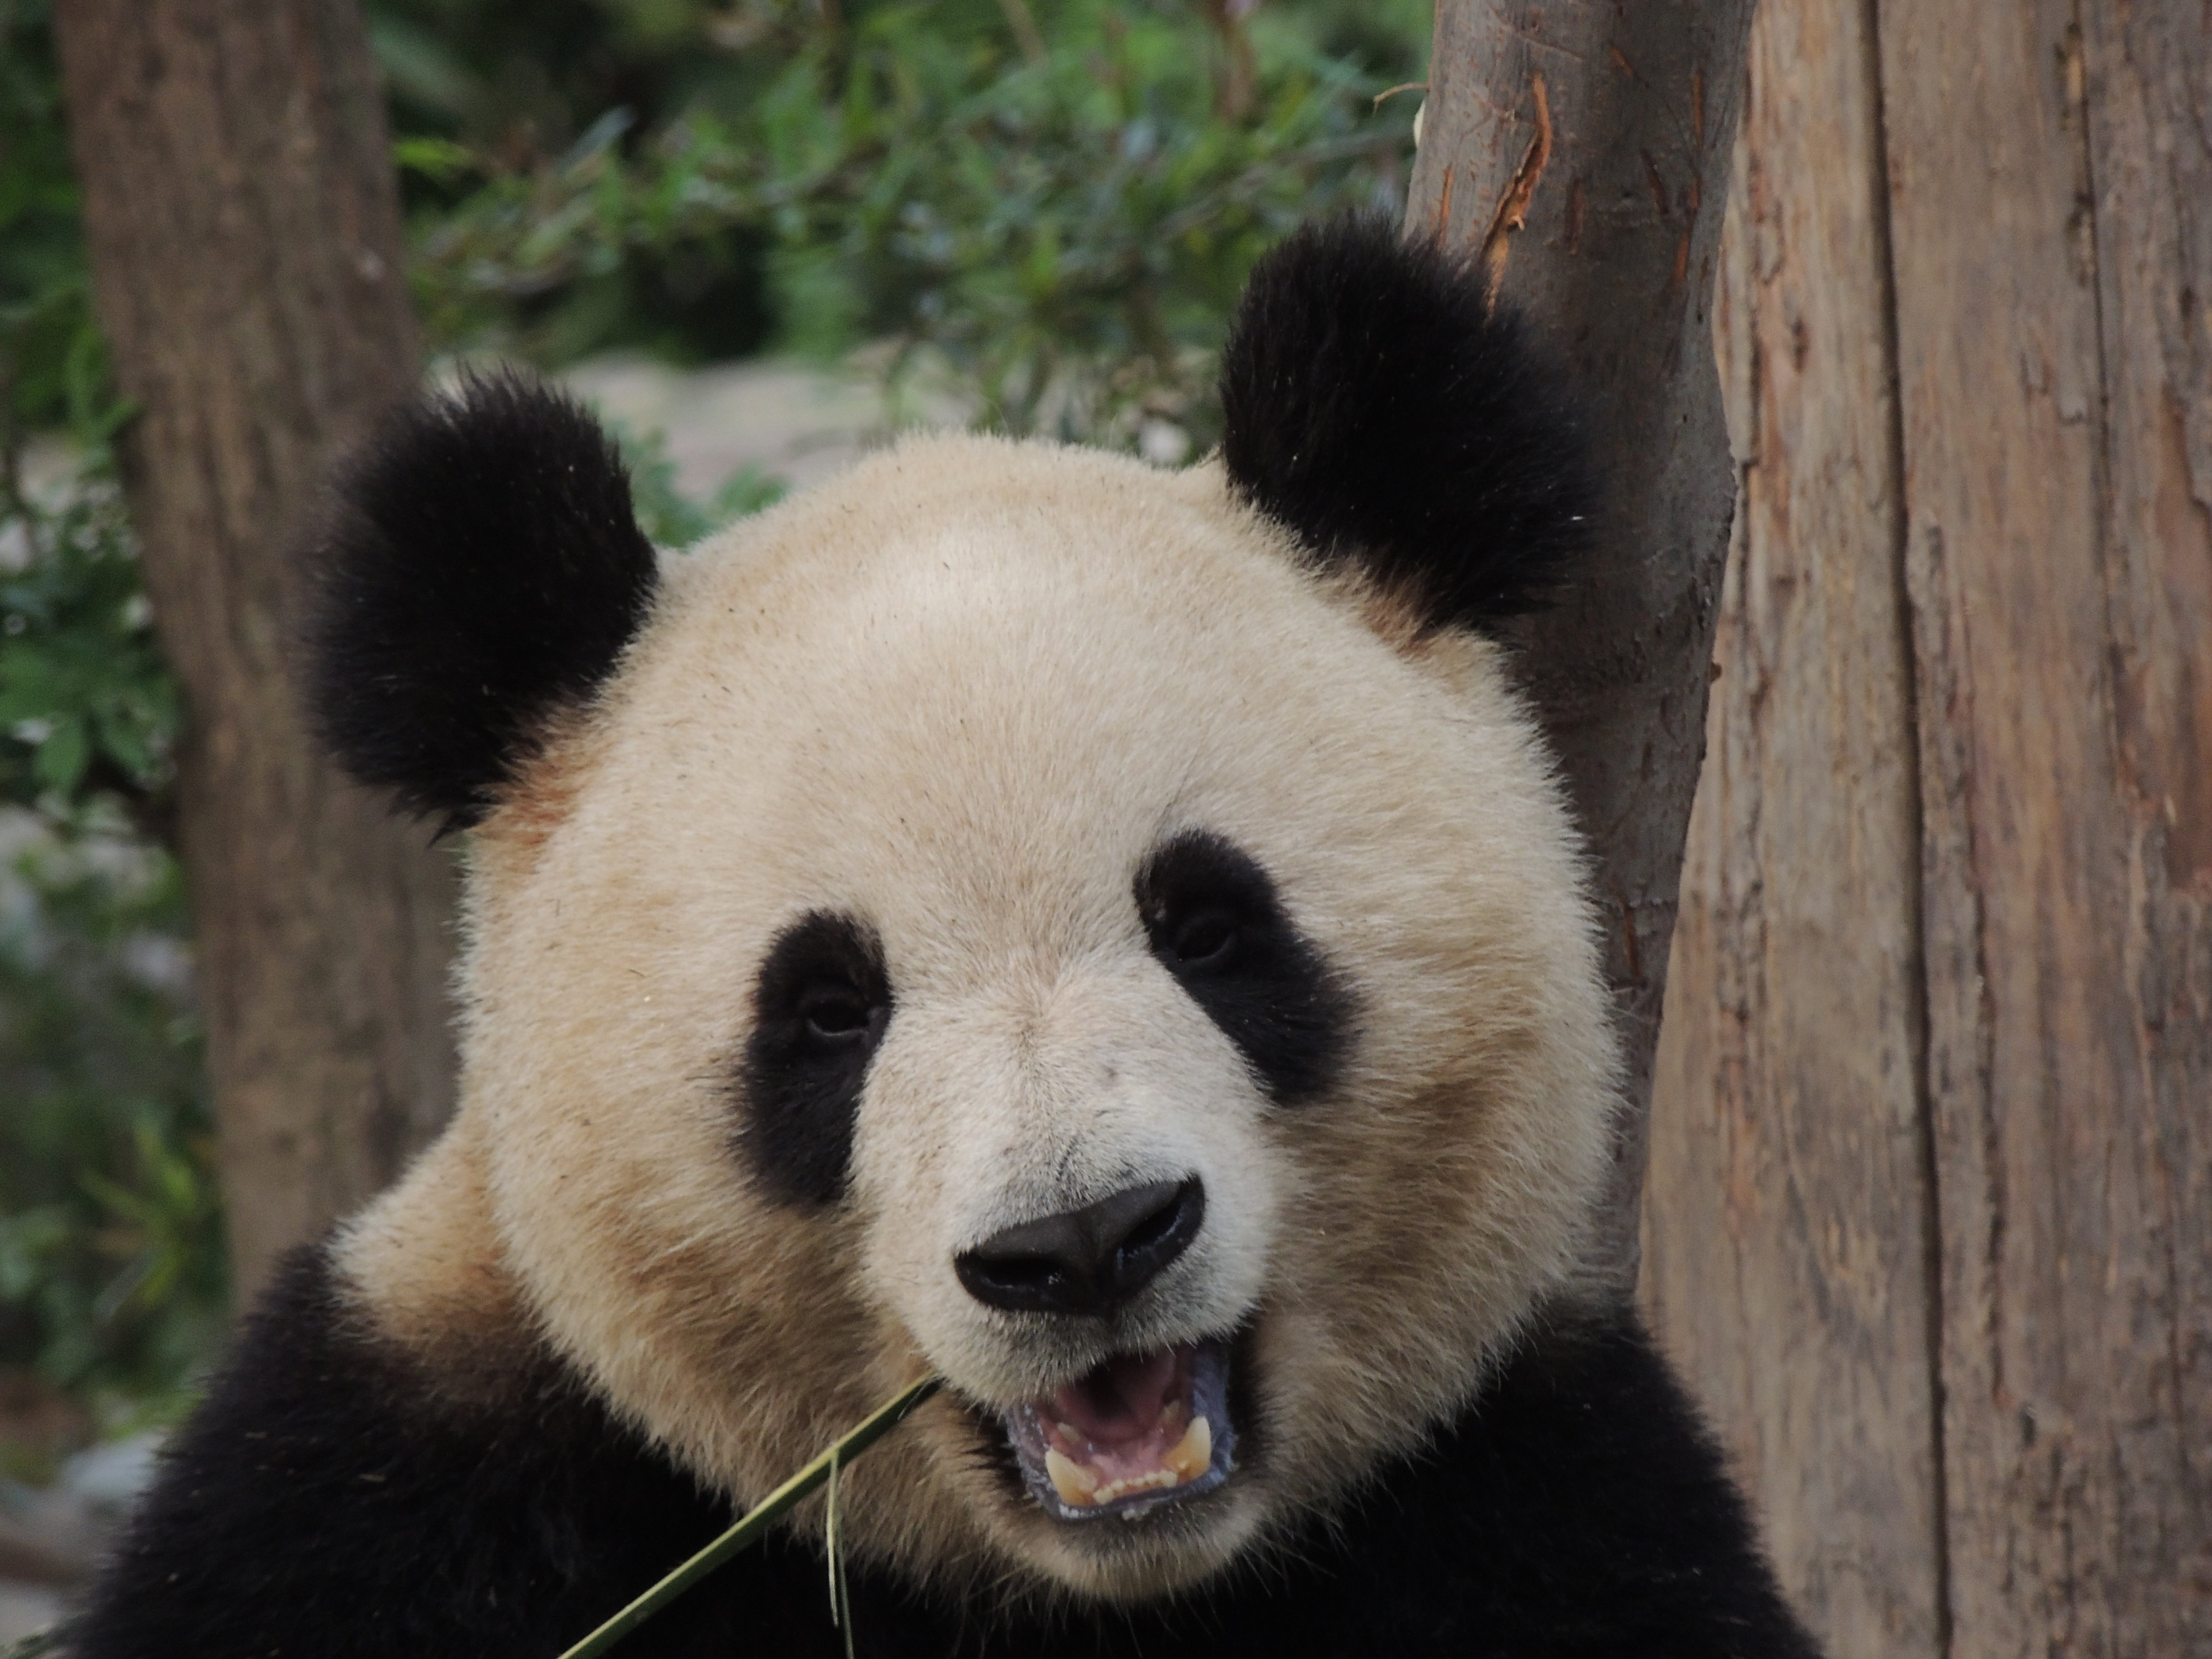panda: (106, 206, 1815, 1532)
